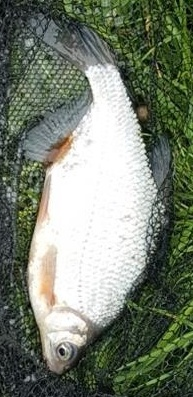Blicca bjoerkna: (20, 20, 173, 377)
